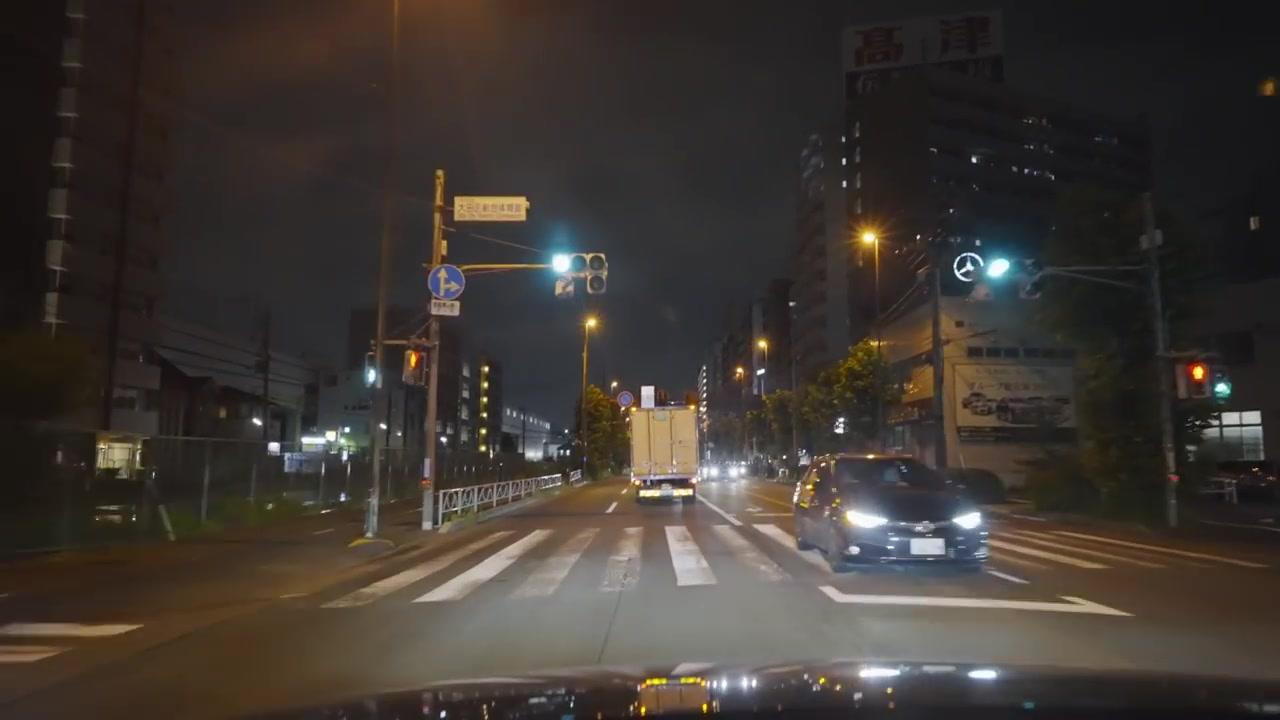car: (791, 452, 991, 571), (636, 469, 697, 507)
traffic light: (983, 253, 1016, 296), (1183, 359, 1210, 400), (401, 346, 426, 385), (1211, 368, 1232, 405), (364, 345, 379, 389)
truck: (629, 406, 701, 505)
